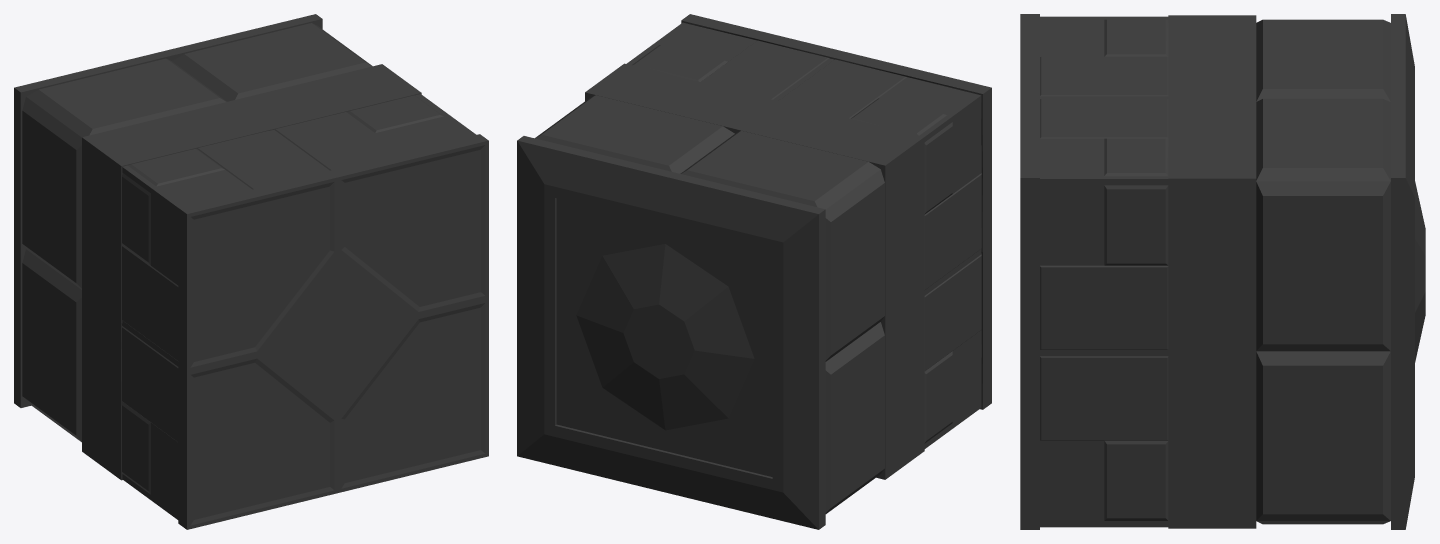
3 renders of one model, left to right at view 1: azimuth 30°, elevation 25°; view 2: azimuth 150°, elevation 25°; view 3: azimuth 270°, elevation 25°, orthographic. The views are drawn at different scales.
Parts seen in each view (by area): view 1: Mesh.001_Mesh.001_cube5_cube5_; view 2: Mesh.001_Mesh.001_cube5_cube5_; view 3: Mesh.001_Mesh.001_cube5_cube5_.
Boxes of the visible parts, left/top/right/bottom form: Mesh.001_Mesh.001_cube5_cube5_: left=14, top=14, right=488, bottom=529; Mesh.001_Mesh.001_cube5_cube5_: left=517, top=14, right=991, bottom=529; Mesh.001_Mesh.001_cube5_cube5_: left=1020, top=14, right=1425, bottom=529.
Size of the model in its own units: 2.04 by 2.04 by 2.1.
1 material, 1 textured.
